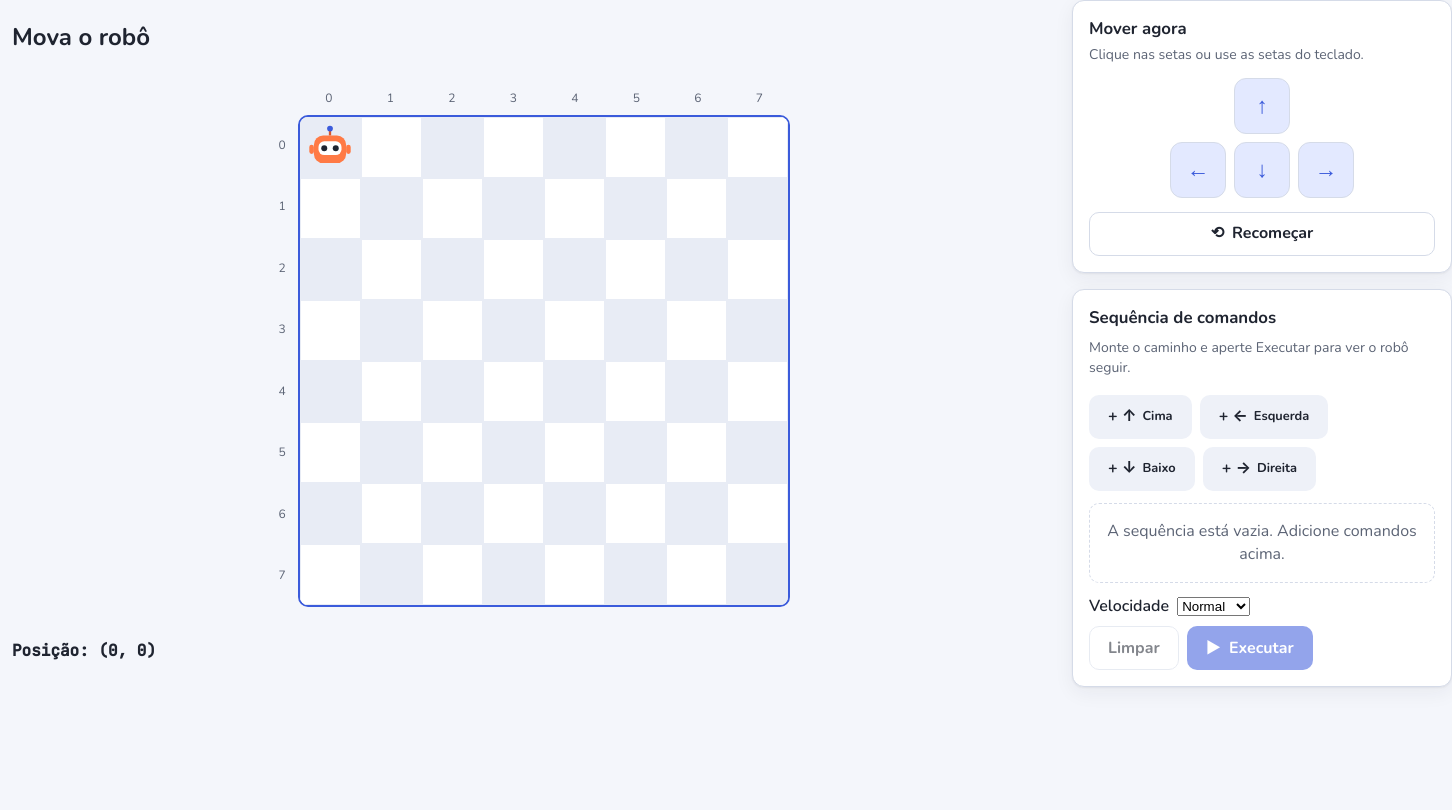
Test: Executar a sequência (RF12) › CT-UI-05: Recomeçar interrompe a execução e mantém a sequência
The image size is (1452, 810).
Click the button with aria-label "Adicionar Direita" at (1259, 469), box [1203,447,1316,491]
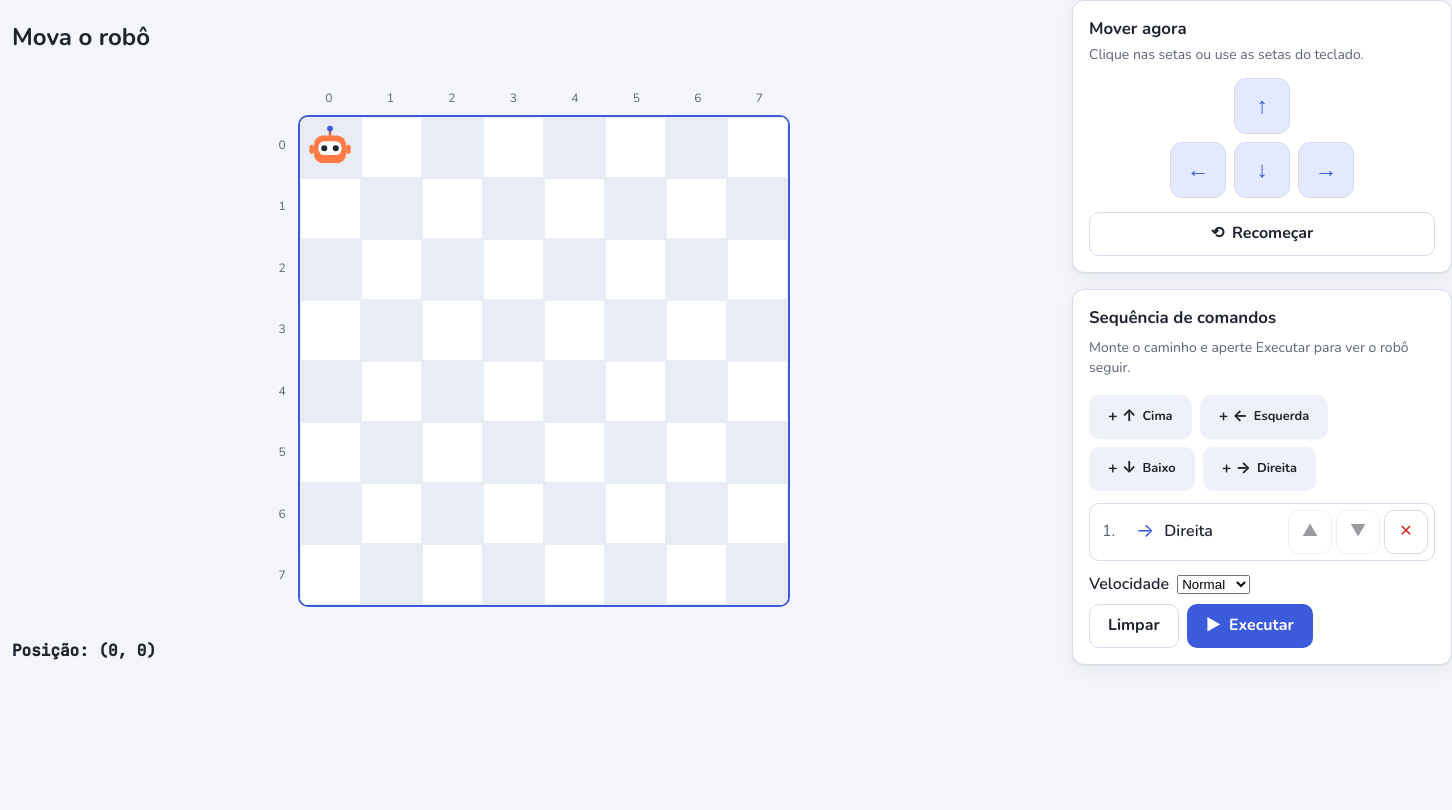
Click the button with aria-label "Adicionar Direita" at (1259, 469), box [1203,447,1316,491]
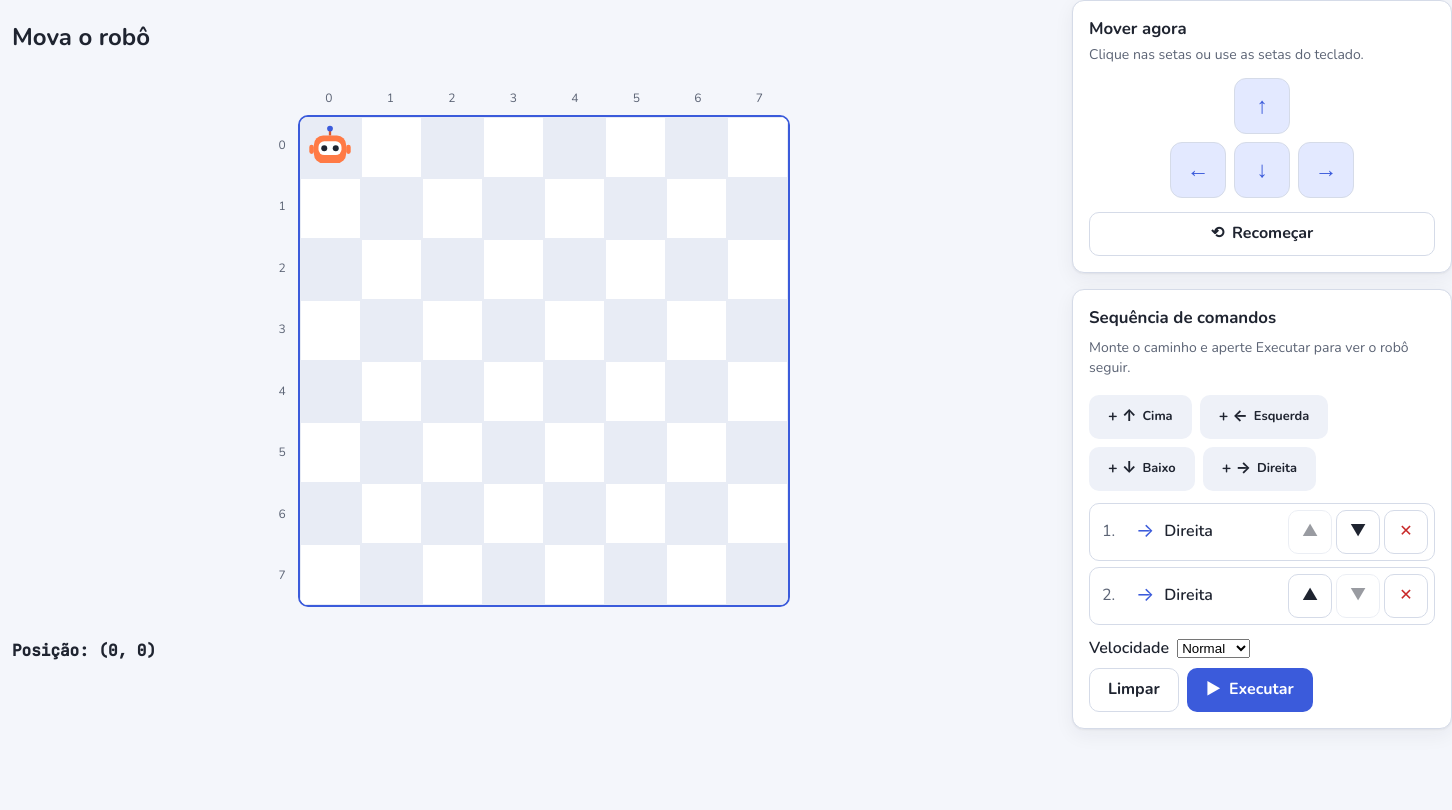
Click the button with aria-label "Adicionar Direita" at (1259, 469), box [1203,447,1316,491]
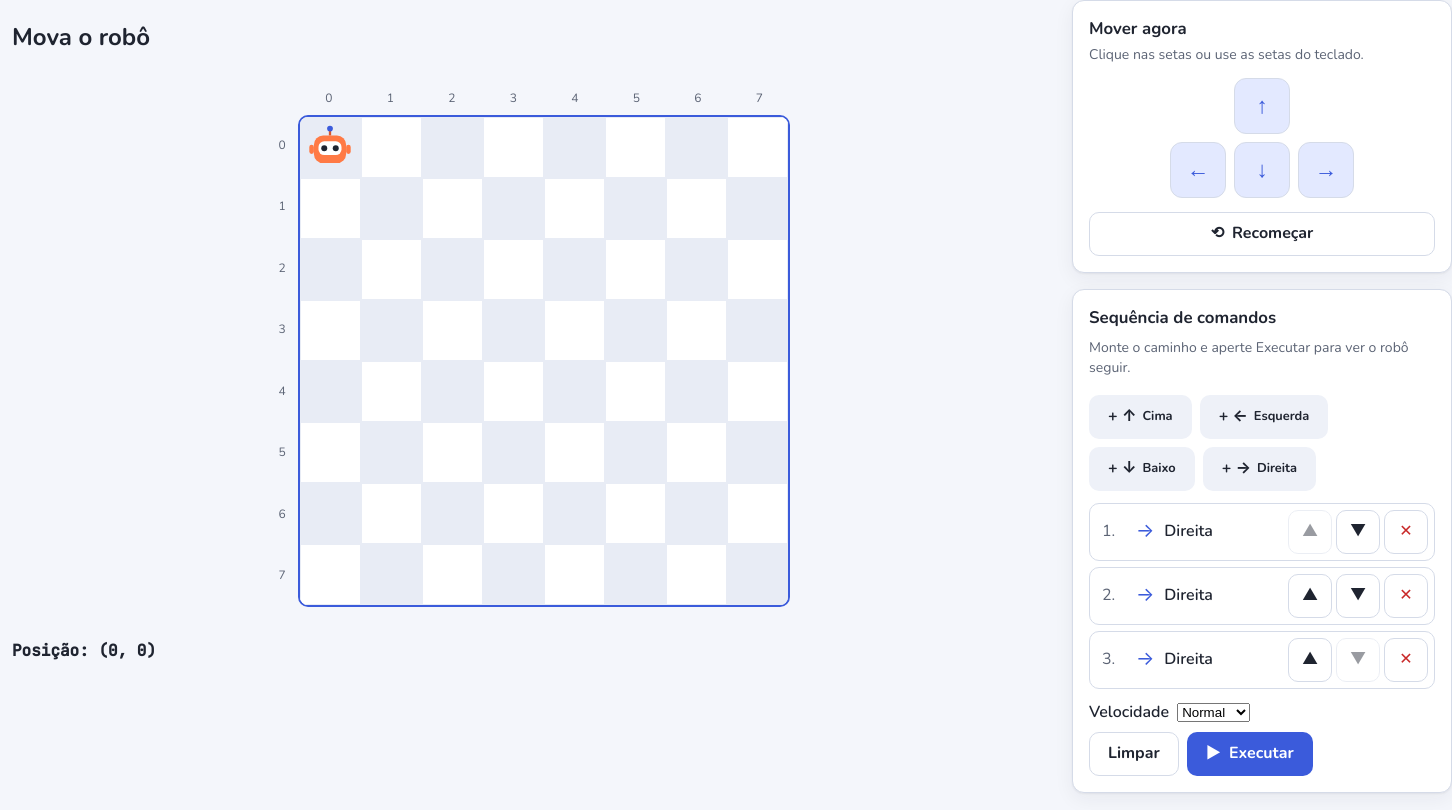
Click the button "▶ Executar" at (1250, 754), box [1187,732,1313,776]
Wait 600 ms
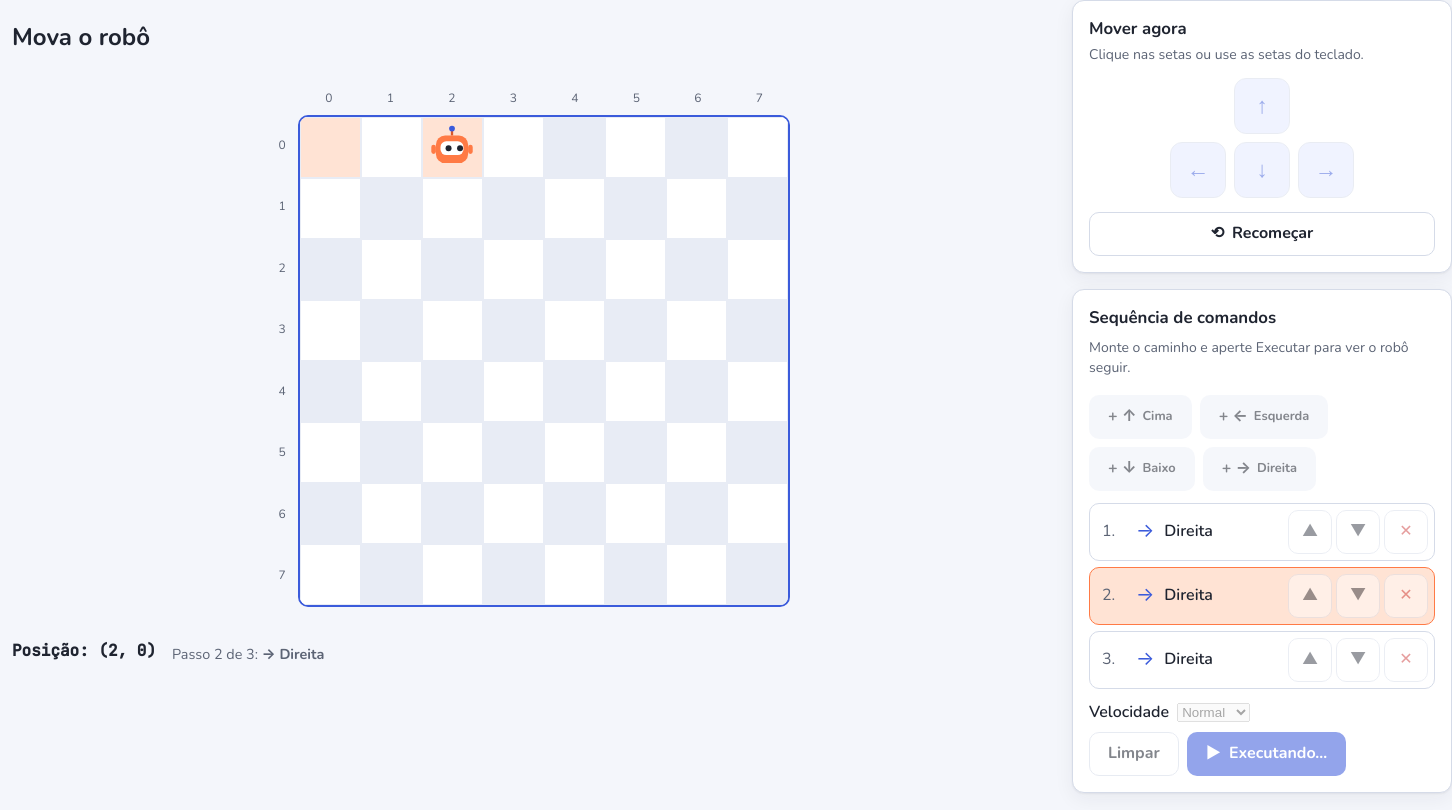
Click the button "⟲ Recomeçar" at (1262, 234), box [1089,212,1435,256]
Wait 5000 ms
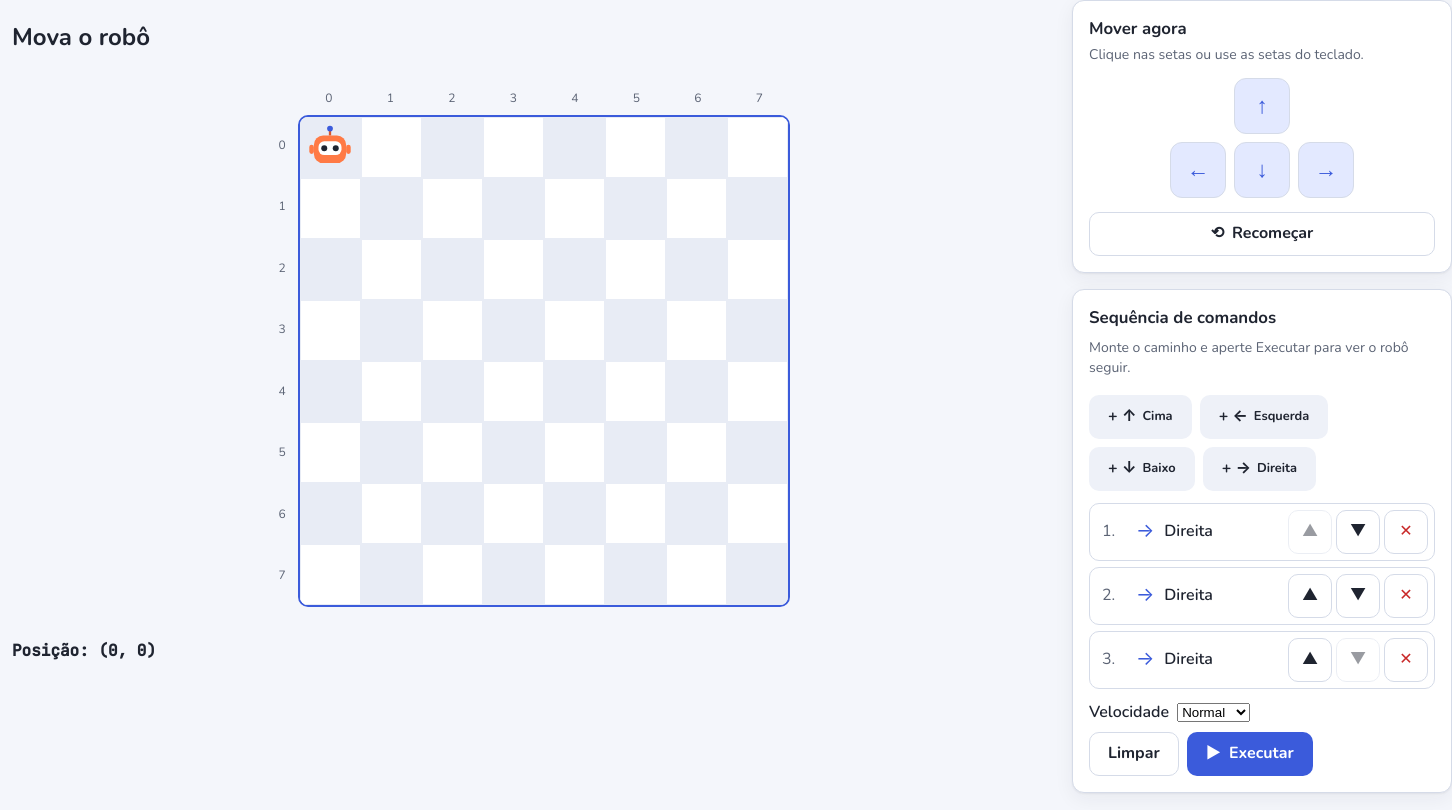
Expected: the button "▶ Executar" is enabled, [1187,732,1313,776]
